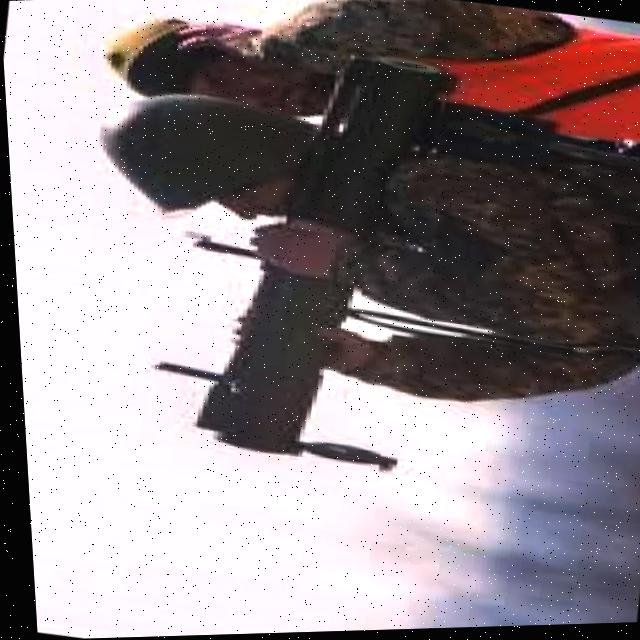rocket: (164, 29, 474, 476)
